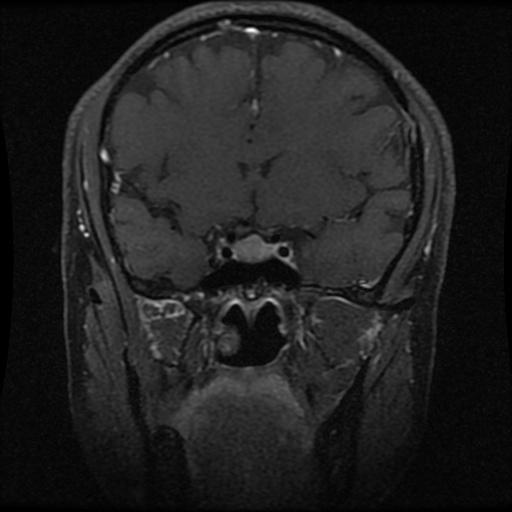pituitary: (233, 235, 274, 259)
